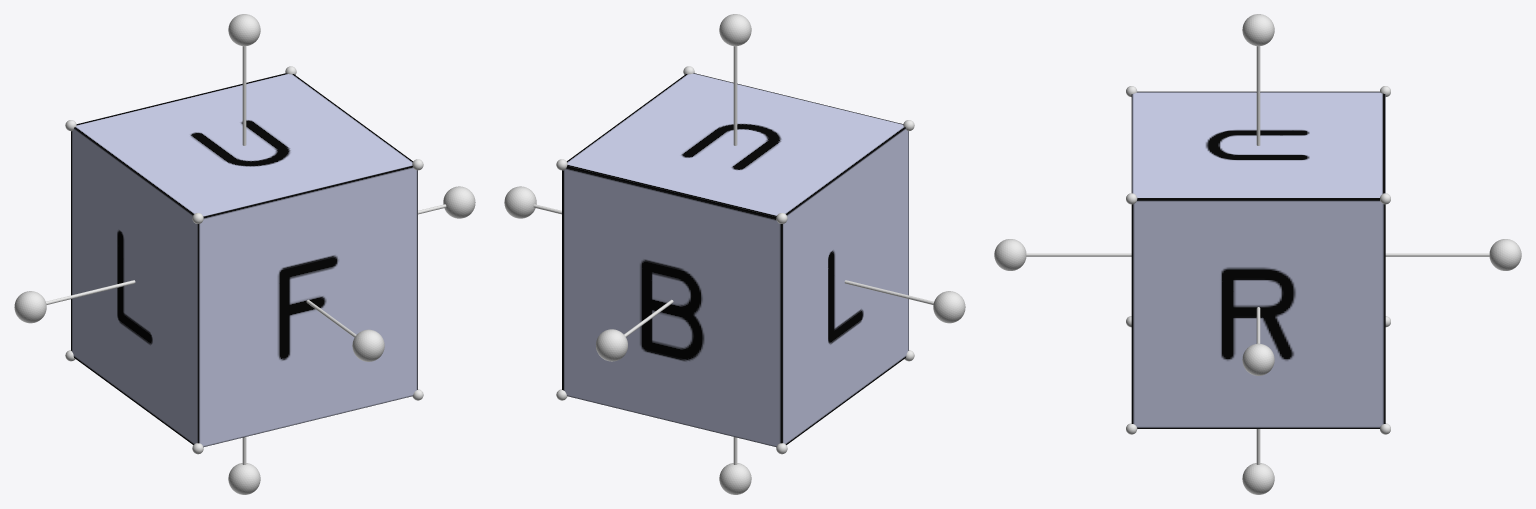
3 renders of one model, left to right at view 1: azimuth 30°, elevation 25°; view 2: azimuth 150°, elevation 25°; view 3: azimuth 270°, elevation 25°, orthographic.
Parts seen in each view (by area): view 1: Cube, Icosphere.008, Icosphere.010, Icosphere.013, Icosphere.012, Icosphere.009, Cylinder, Cylinder.002; view 2: Cube, Icosphere.008, Icosphere.013, Icosphere.011, Icosphere.012, Icosphere.009, Cylinder, Cylinder.002; view 3: Cube, Icosphere.008, Icosphere.012, Icosphere.010, Icosphere.011, Cylinder.001, Icosphere.009, Cylinder.
Part boxes in pixels (x1,y1,x2,y2): Cube: (71,73,417,447); Icosphere.008: (228,14,260,46); Icosphere.010: (352,329,384,361); Icosphere.013: (14,291,46,323); Icosphere.012: (443,186,475,218); Icosphere.009: (228,463,260,494); Cylinder: (242,46,246,464); Cylinder.002: (46,204,446,304); Cube: (562,73,908,447); Icosphere.008: (719,14,751,46); Icosphere.013: (933,291,965,323); Icosphere.011: (596,329,627,361); Icosphere.012: (504,186,536,218); Icosphere.009: (719,463,751,494); Cylinder: (733,46,737,464); Cylinder.002: (533,204,933,304); Cube: (1131,91,1385,428); Icosphere.008: (1242,14,1274,46); Icosphere.012: (1242,343,1274,375); Icosphere.010: (994,239,1026,270); Icosphere.011: (1489,239,1521,270); Cylinder.001: (1026,253,1489,256); Icosphere.009: (1242,463,1274,494); Cylinder: (1256,46,1260,464).
Bounding box in the file's own units: 4.15 × 4.15 × 4.15.
1 material, 1 textured.
